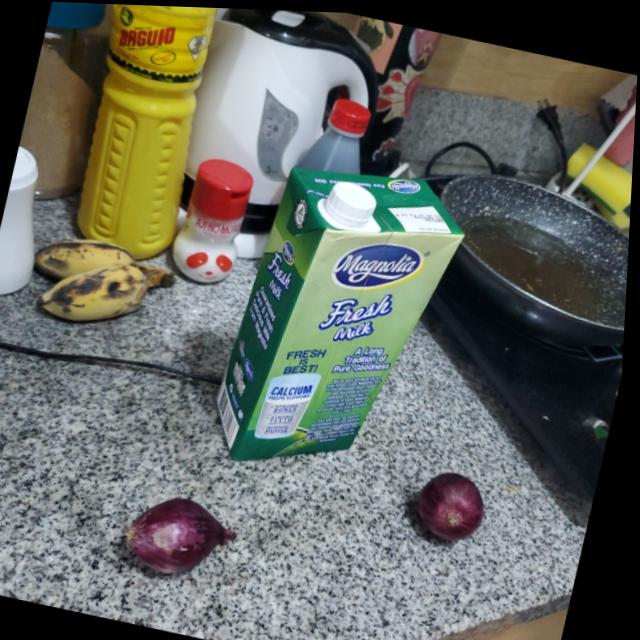milk: (205, 142, 477, 496)
onion: (117, 480, 250, 587), (412, 460, 500, 547)
